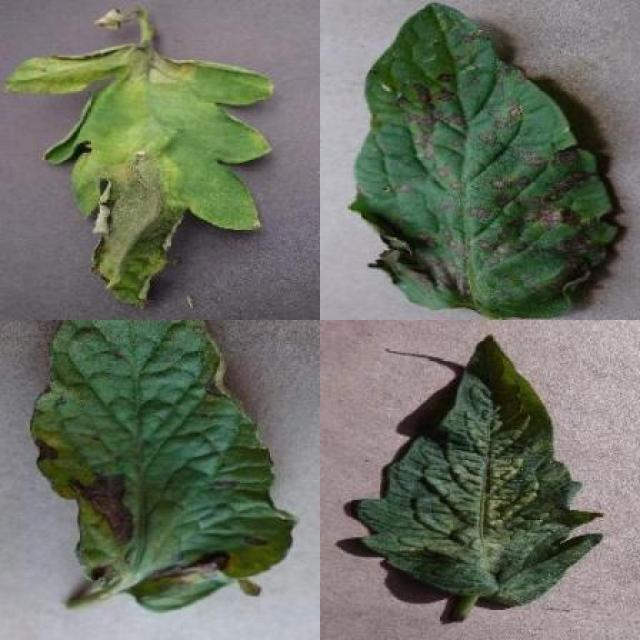Early Blight: (350, 0, 617, 320), (29, 320, 294, 613)
Late Blight: (2, 39, 275, 307)
Spider Mites: (357, 332, 603, 609)
